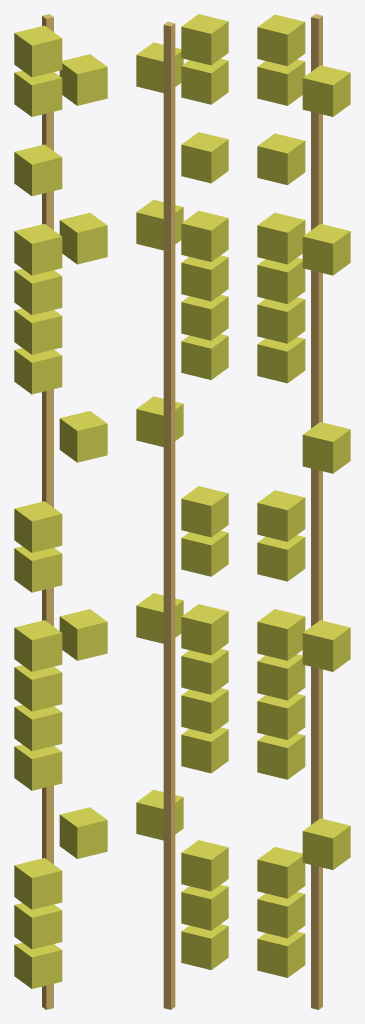
The model's file is SOLON.gltf.
3 views of the same model, side by side, from view 1: azimuth 30°, elevation 25°; view 2: azimuth 150°, elevation 25°; view 3: azimuth 330°, elevation 25° (orthographic).
Visible parts, largest first — view 1: O.low.dot1 (×2), O.low.dot4 (×2), plane0.stroke1, O.low.dot7 (×2), O.low.dot3 (×2), O.low.dot2 (×2), S.low.dot1, L.low.dot3, L.low.dot4, N.low.dot4, S.low.dot7, N.low.dot2 (+5 smaller); view 2: plane0.stroke1, O.low.dot1 (×2), O.low.dot2 (×2), O.low.dot3 (×2), O.low.dot7 (×2), O.low.dot4 (×2), S.low.dot1, S.low.dot7, L.low.dot3, N.low.dot2, N.low.dot7, S.low.dot2 (+5 smaller); view 3: plane0.stroke1, O.low.dot4 (×2), O.low.dot1 (×2), O.low.dot7 (×2), O.low.dot3 (×2), O.low.dot2 (×2), N.low.dot4, S.low.dot1, S.low.dot5, L.low.dot3, L.low.dot4, S.low.dot7 (+5 smaller).
Boxes of the visible parts, x1=… form: O.low.dot1 (×2): x1=14, y1=224, x2=62, y2=671; O.low.dot4 (×2): x1=59, y1=212, x2=107, y2=660; plane0.stroke1: x1=42, y1=14, x2=53, y2=1009; O.low.dot7 (×2): x1=14, y1=348, x2=62, y2=790; O.low.dot3 (×2): x1=14, y1=308, x2=62, y2=750; O.low.dot2 (×2): x1=14, y1=269, x2=62, y2=711; S.low.dot1: x1=14, y1=25, x2=62, y2=77; L.low.dot3: x1=14, y1=501, x2=62, y2=552; L.low.dot4: x1=59, y1=411, x2=107, y2=462; N.low.dot4: x1=59, y1=807, x2=107, y2=858; S.low.dot7: x1=14, y1=144, x2=62, y2=196; N.low.dot2: x1=14, y1=858, x2=62, y2=909; plane0.stroke1: x1=163, y1=21, x2=175, y2=1009; O.low.dot1 (×2): x1=181, y1=210, x2=228, y2=655; O.low.dot2 (×2): x1=181, y1=255, x2=228, y2=694; O.low.dot3 (×2): x1=181, y1=295, x2=228, y2=733; O.low.dot7 (×2): x1=181, y1=334, x2=228, y2=773; O.low.dot4 (×2): x1=136, y1=199, x2=183, y2=643; S.low.dot1: x1=181, y1=14, x2=228, y2=65; S.low.dot7: x1=181, y1=132, x2=228, y2=183; L.low.dot3: x1=181, y1=486, x2=228, y2=537; N.low.dot2: x1=181, y1=840, x2=228, y2=891; N.low.dot7: x1=181, y1=924, x2=228, y2=969; S.low.dot2: x1=181, y1=59, x2=228, y2=104; plane0.stroke1: x1=311, y1=14, x2=322, y2=1009; O.low.dot4 (×2): x1=302, y1=224, x2=350, y2=671; O.low.dot1 (×2): x1=257, y1=212, x2=305, y2=660; O.low.dot7 (×2): x1=257, y1=337, x2=305, y2=779; O.low.dot3 (×2): x1=257, y1=297, x2=305, y2=739; O.low.dot2 (×2): x1=257, y1=257, x2=305, y2=700; N.low.dot4: x1=302, y1=818, x2=350, y2=869; S.low.dot1: x1=257, y1=14, x2=305, y2=66; S.low.dot5: x1=302, y1=65, x2=350, y2=116; L.low.dot3: x1=257, y1=490, x2=305, y2=541; L.low.dot4: x1=302, y1=422, x2=350, y2=473; S.low.dot7: x1=257, y1=133, x2=305, y2=184.
Bounding box in the file's own units: 2 × 25 × 1.1.
